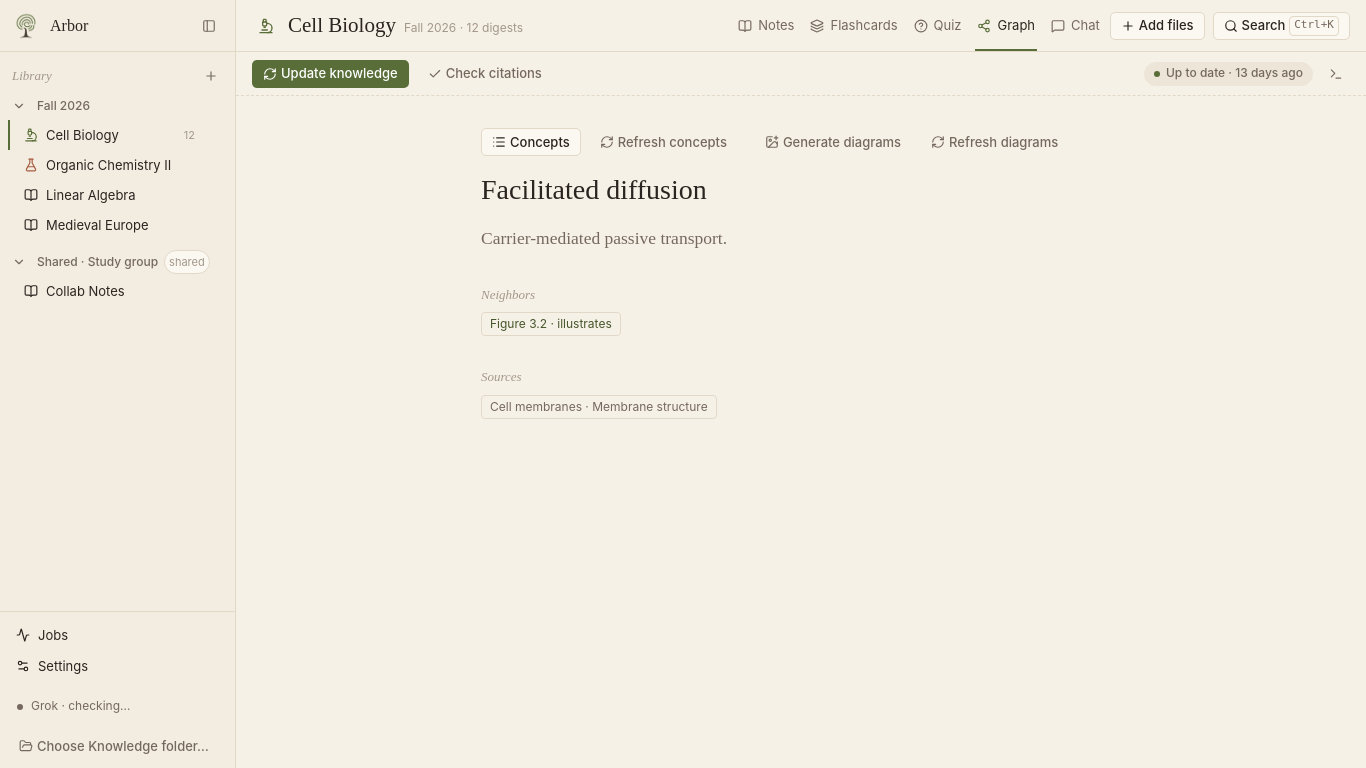
Test: graph PR10 › opens narrow concept list sheet
Expected: the element with test id "graph-view" is shown, [481,128,1069,419]
Expected: the button "Refresh concepts" is shown, [589,128,738,156]
Click the button "Concepts". click: (531, 142)
box: [481,128,581,156]
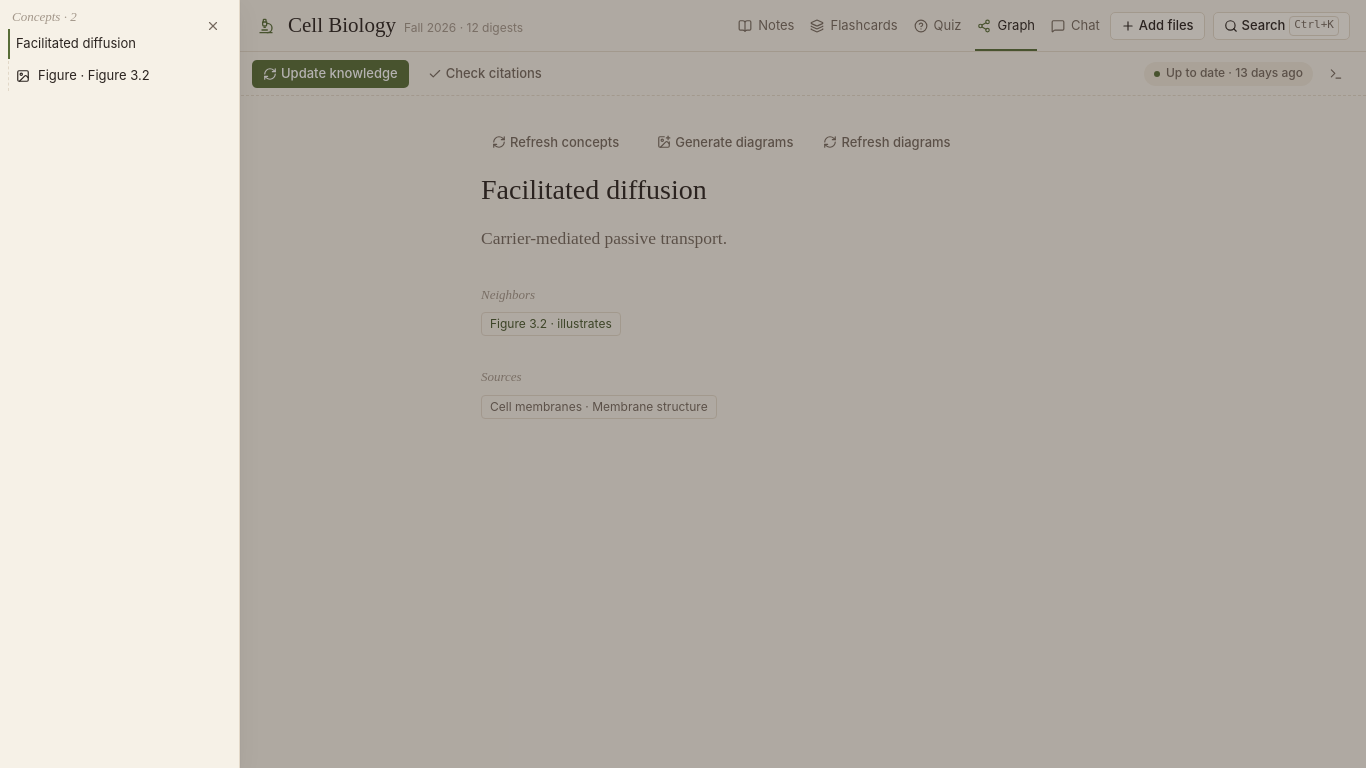
Now the dialog is shown, box [0,0,240,767]
Now the navigation bar "Concepts · 2 Facilitated diffusion Figure · Figure 3.2" is shown, box [0,0,239,767]
